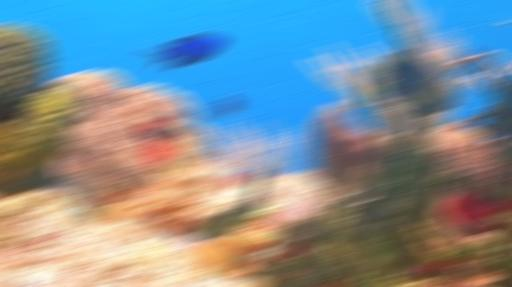Fish: (380, 52, 455, 115), (139, 32, 226, 71), (211, 95, 240, 116)
